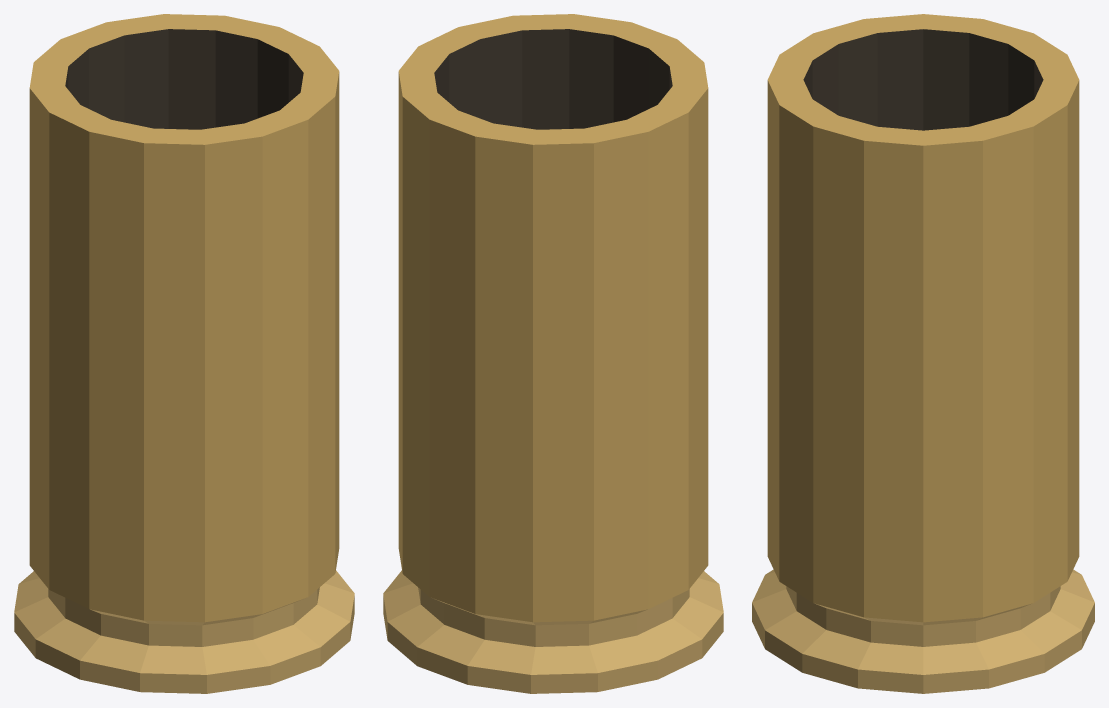
Rendered from Pistol_SpentCase.glb.
The picture shows the model from 3 angles, left to right: view 1: azimuth 30°, elevation 25°; view 2: azimuth 150°, elevation 25°; view 3: azimuth 270°, elevation 25°; orthographic projection.
Visible parts, largest first — view 1: Pistol_SpentCase; view 2: Pistol_SpentCase; view 3: Pistol_SpentCase.
Part boxes in pixels (x1,y1,x2,y2): Pistol_SpentCase: [14, 14, 354, 693]; Pistol_SpentCase: [383, 14, 723, 693]; Pistol_SpentCase: [752, 14, 1094, 693].
Bounding box in the file's own units: 0.0132 × 0.0233 × 0.0132.
